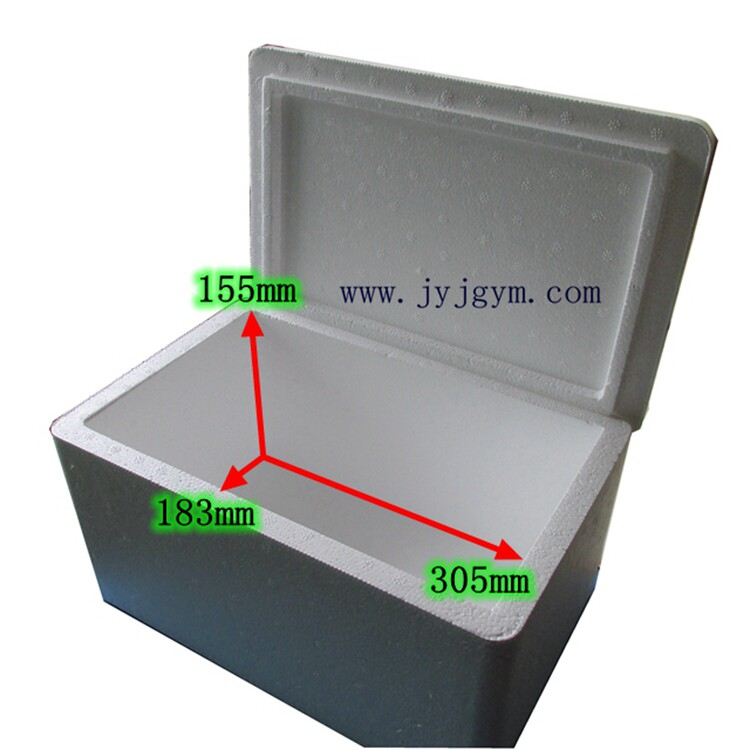泡沫箱: (51, 48, 714, 747)
